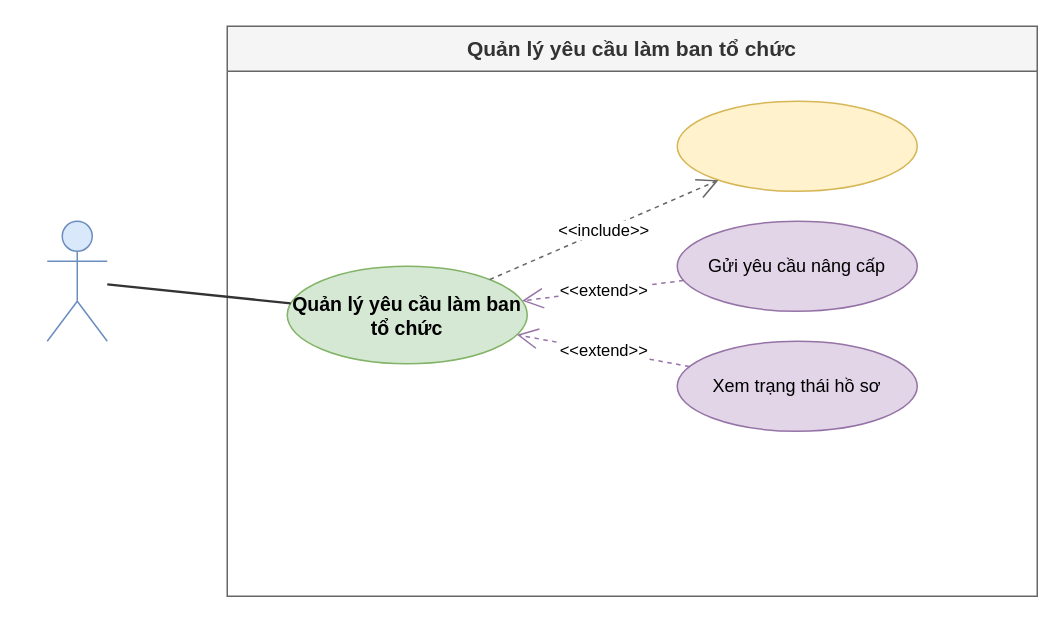
This 1064x623 diagram has some shape labels left out. Each missing label, with the centre of its shape:
Khách hàng: the point at 76,280
Xem giao diện đăng ký đối tác: the point at 796,145
